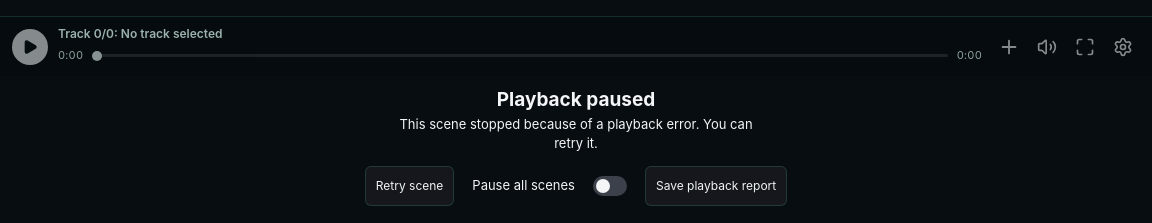
Test case: MagePlayer recovery › does not resume if a newer failure arrives while an accepted retry is globally paused
What coordinates should you click on to do the following:
click the button "Retry scene"
I would click on:
 (410, 186)
Its box is [365,166,454,206].
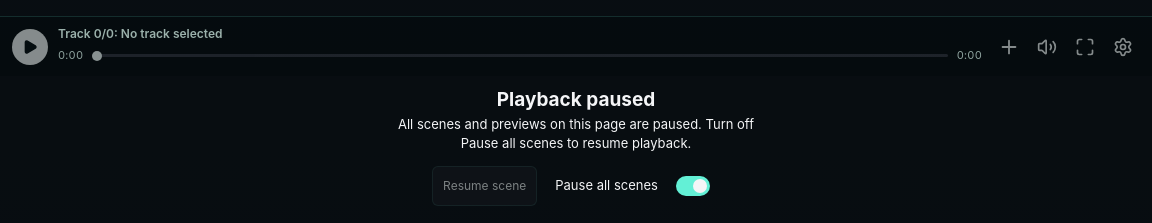
What coordinates should you click on to do the following:
click the checkbox labelled "Pause all scenes"
I would click on:
 (693, 186)
Its box is [676,176,710,196].
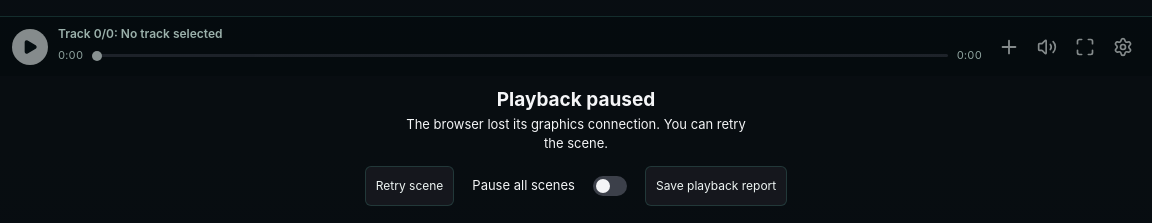
expect the button "Retry scene" is shown: met, box [365,166,454,206]
